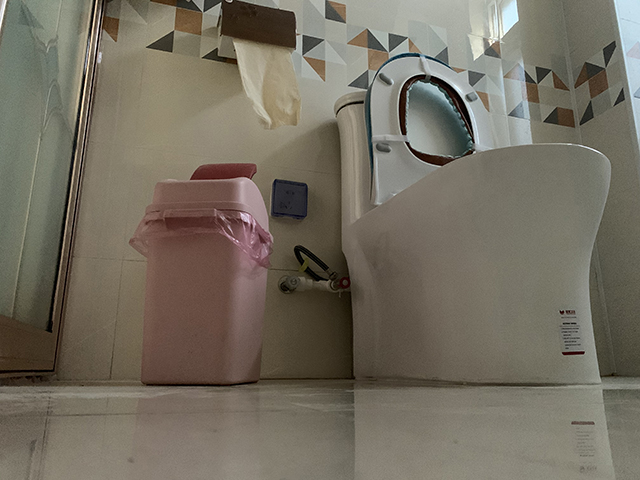closestool: (333, 51, 613, 384)
trashcan: (138, 161, 274, 386)
